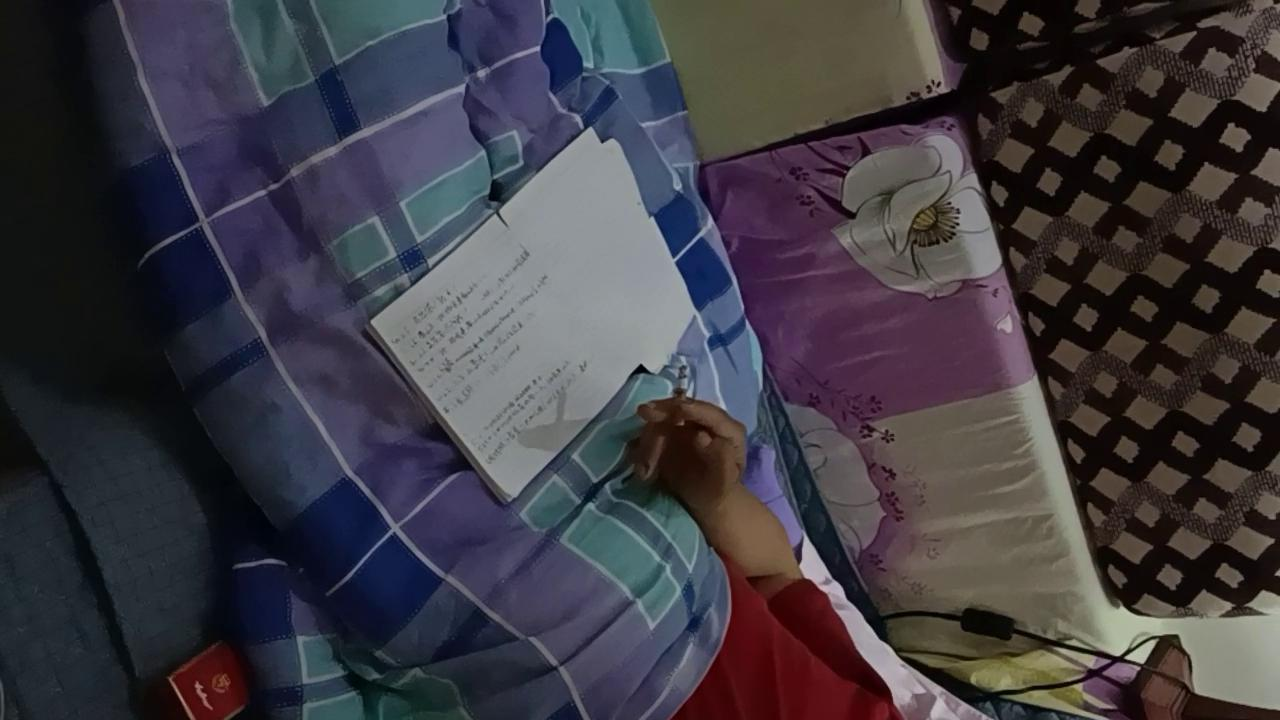smoke: (674, 365, 689, 426)
